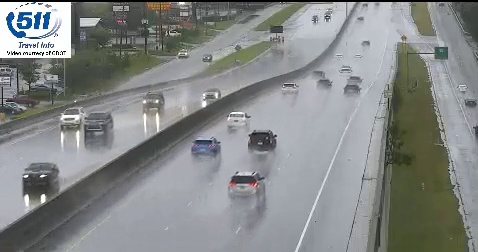car: (228, 171, 264, 199), (248, 131, 276, 150), (192, 138, 219, 156), (227, 111, 249, 129), (343, 84, 359, 96), (281, 83, 298, 94)
